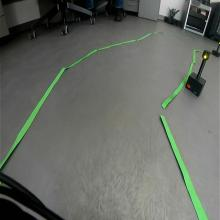green: (201, 49, 211, 61)
